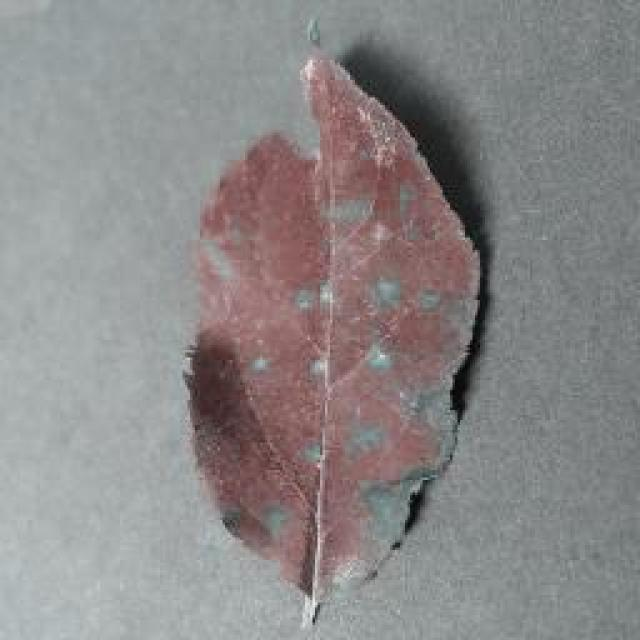apple healthy: (180, 45, 485, 610)
